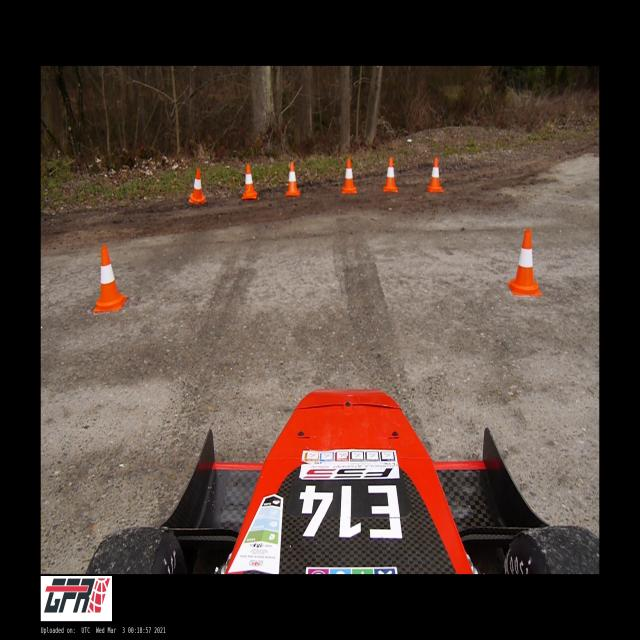orange_cone: (94, 246, 128, 312), (508, 229, 541, 295), (189, 169, 206, 203), (342, 158, 357, 193), (242, 164, 257, 198), (383, 157, 398, 191), (428, 157, 442, 191), (286, 162, 300, 195)
